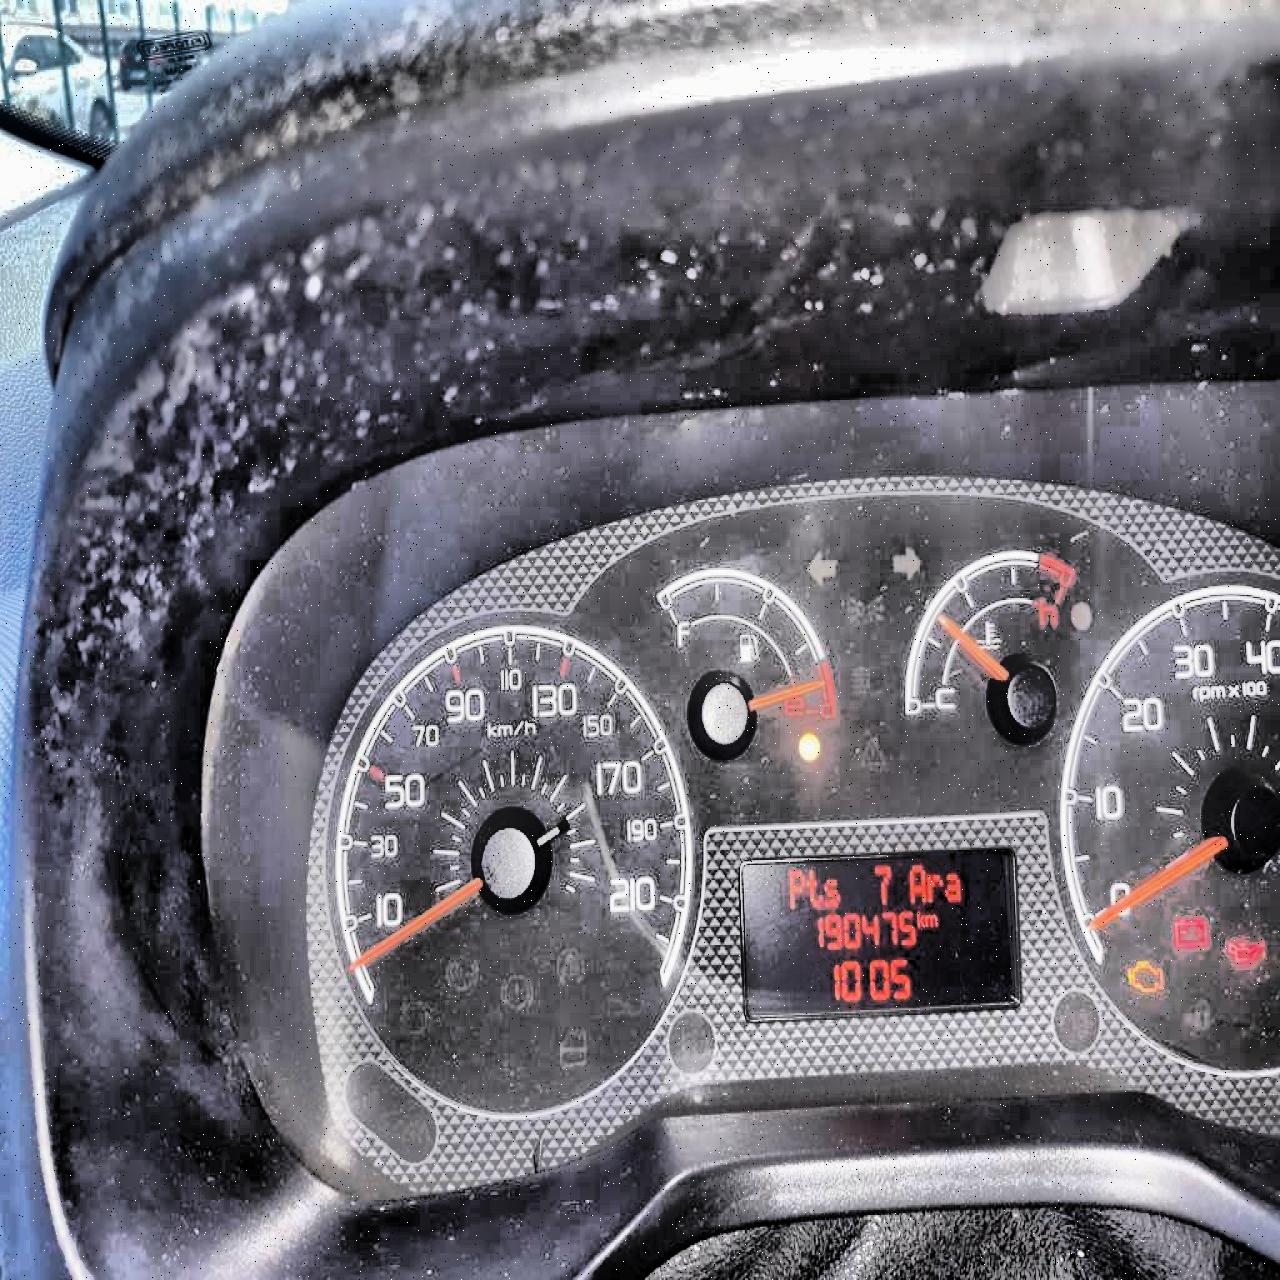0: (867, 956, 888, 1000), (840, 959, 860, 1002), (840, 912, 860, 948)
1: (829, 960, 840, 1002), (813, 912, 824, 948)
4: (862, 912, 879, 945)
5: (888, 955, 910, 1000), (897, 908, 914, 945)
7: (871, 863, 892, 907), (880, 908, 898, 947)
9: (824, 912, 842, 951)
X: (803, 866, 823, 906), (906, 862, 925, 904), (787, 866, 804, 908), (925, 870, 944, 901), (944, 870, 961, 901), (823, 877, 838, 908), (925, 912, 939, 926), (915, 907, 924, 928)
odometer: (734, 843, 1024, 1024)
